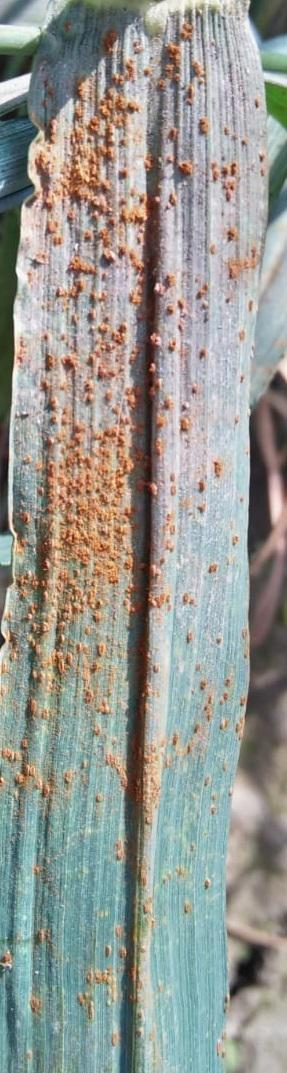Wheat: (48, 74, 224, 672)
